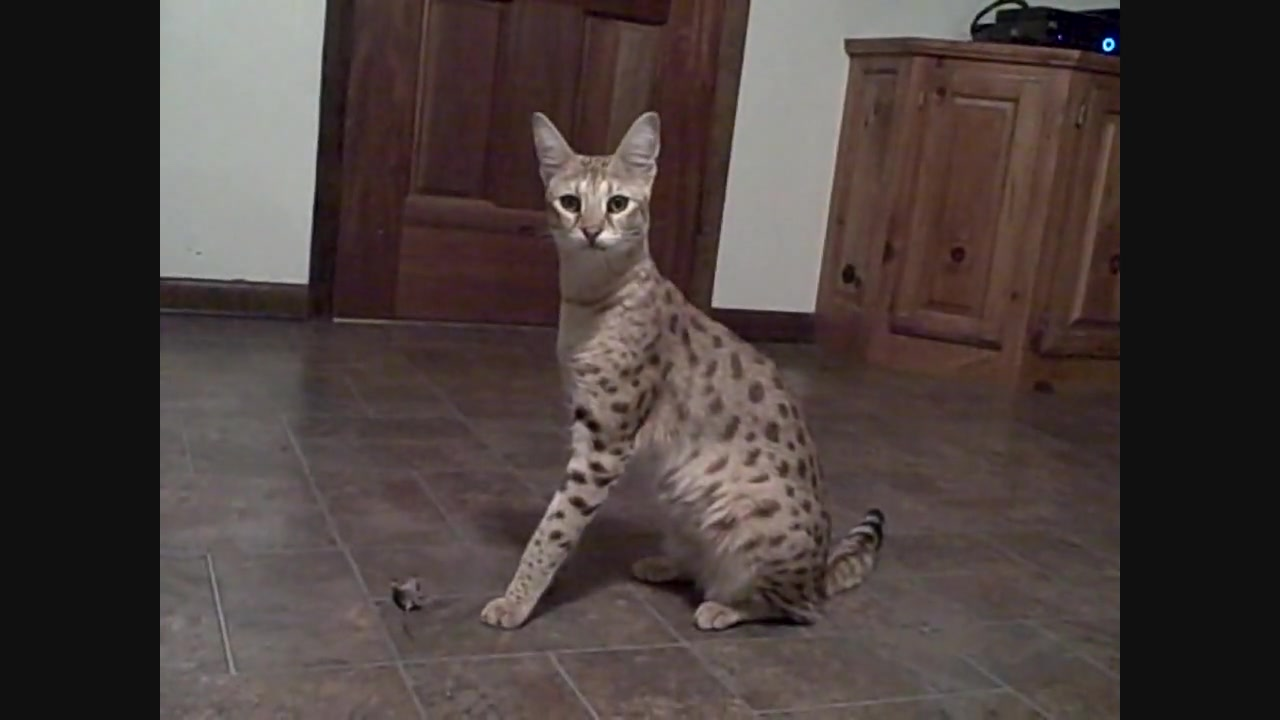cat: (478, 111, 891, 637)
